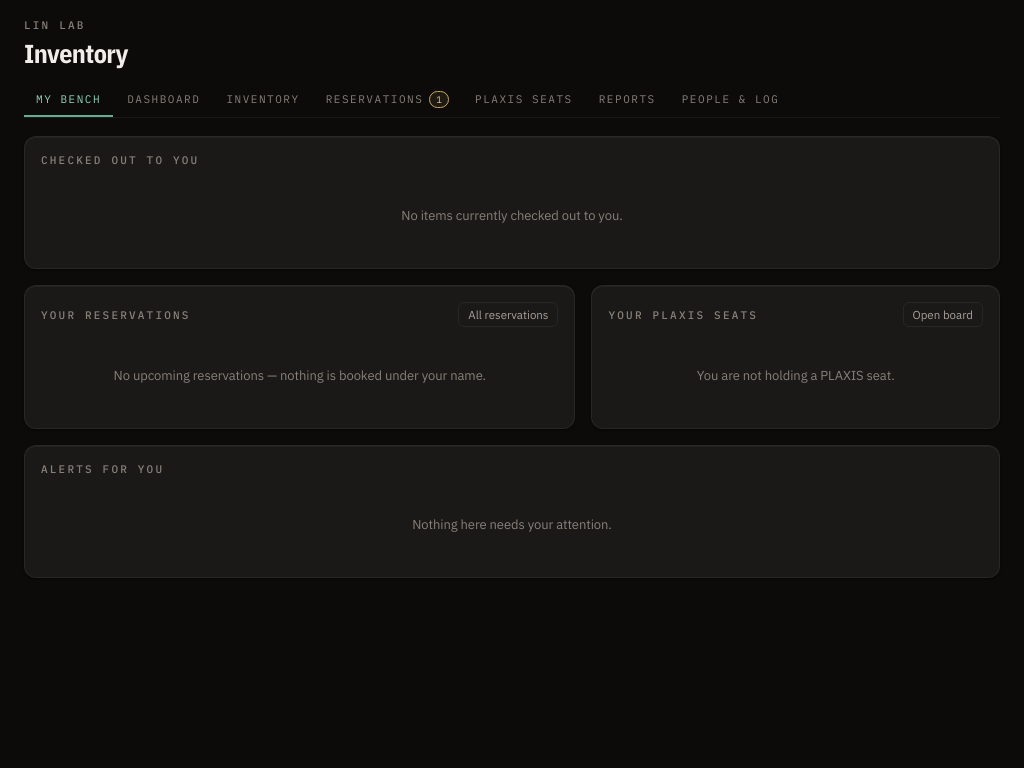
Test: People blank-email note › flag on: an email-less roster row carries the cannot-be-named note
Click the tab "People & log".
click(731, 100)  # box x1=670 y1=84 x2=791 y2=117
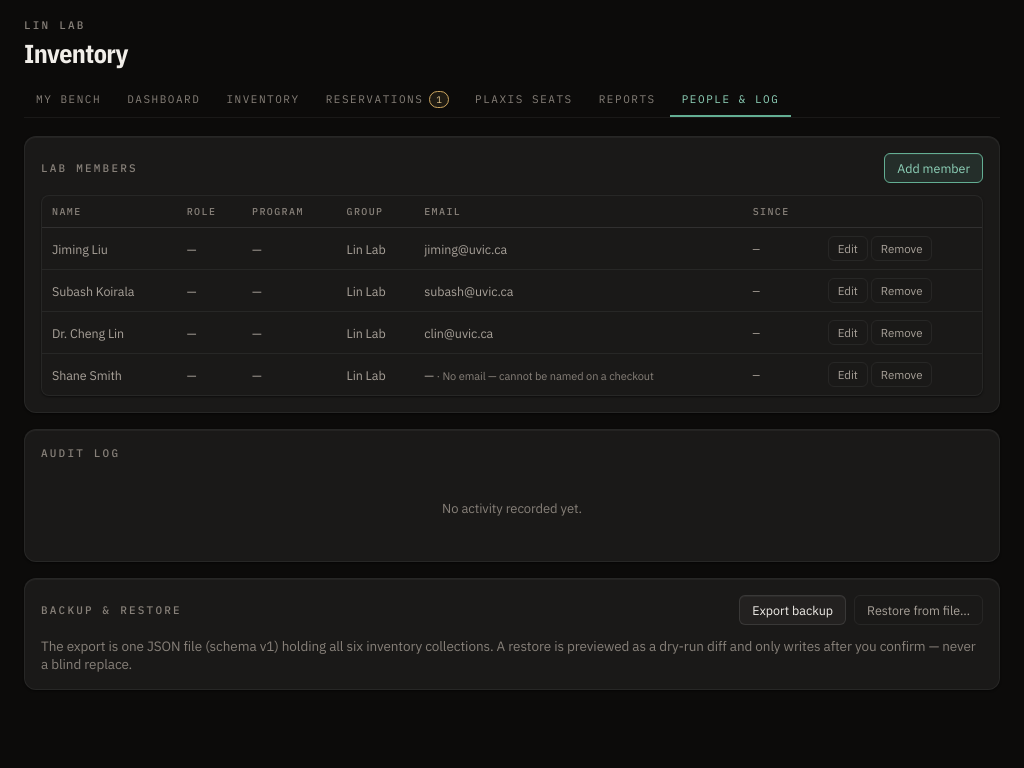
Check: the text "· No email — cannot be named on a checkout" is shown once, box x1=434 y1=368 x2=654 y2=382
Click the tab "Dashboard".
click(164, 100)  # box x1=115 y1=84 x2=212 y2=117
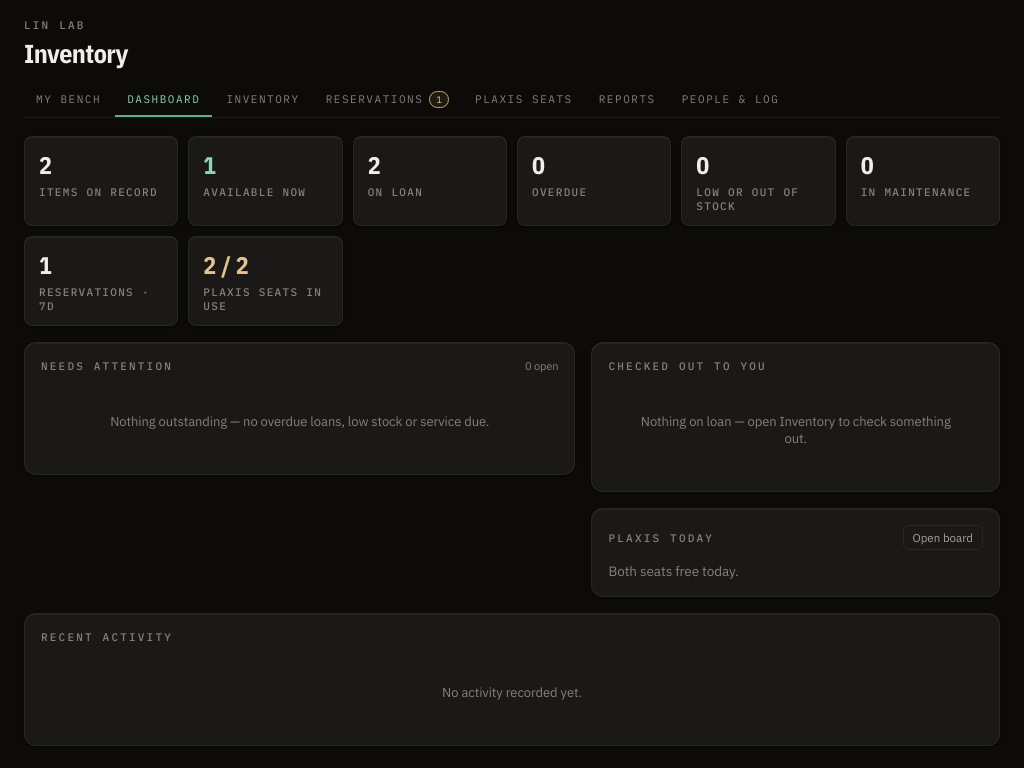
Check: the text "cannot be named on a checkout" is gone
